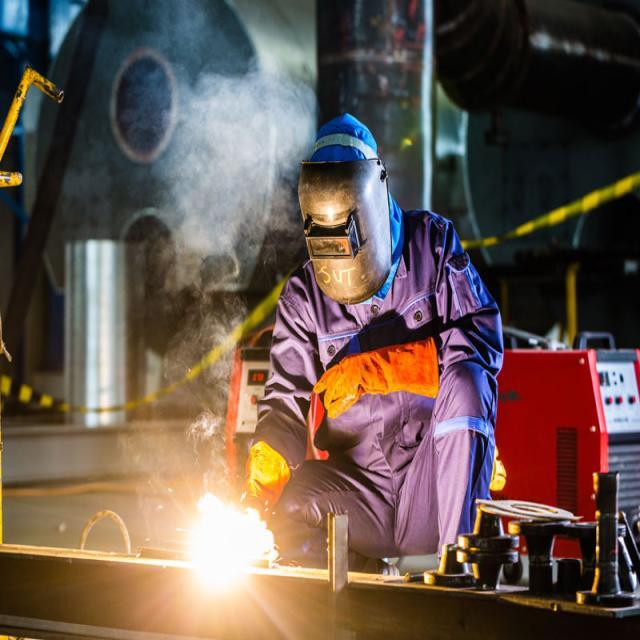with_helmet: (251, 113, 508, 563)
